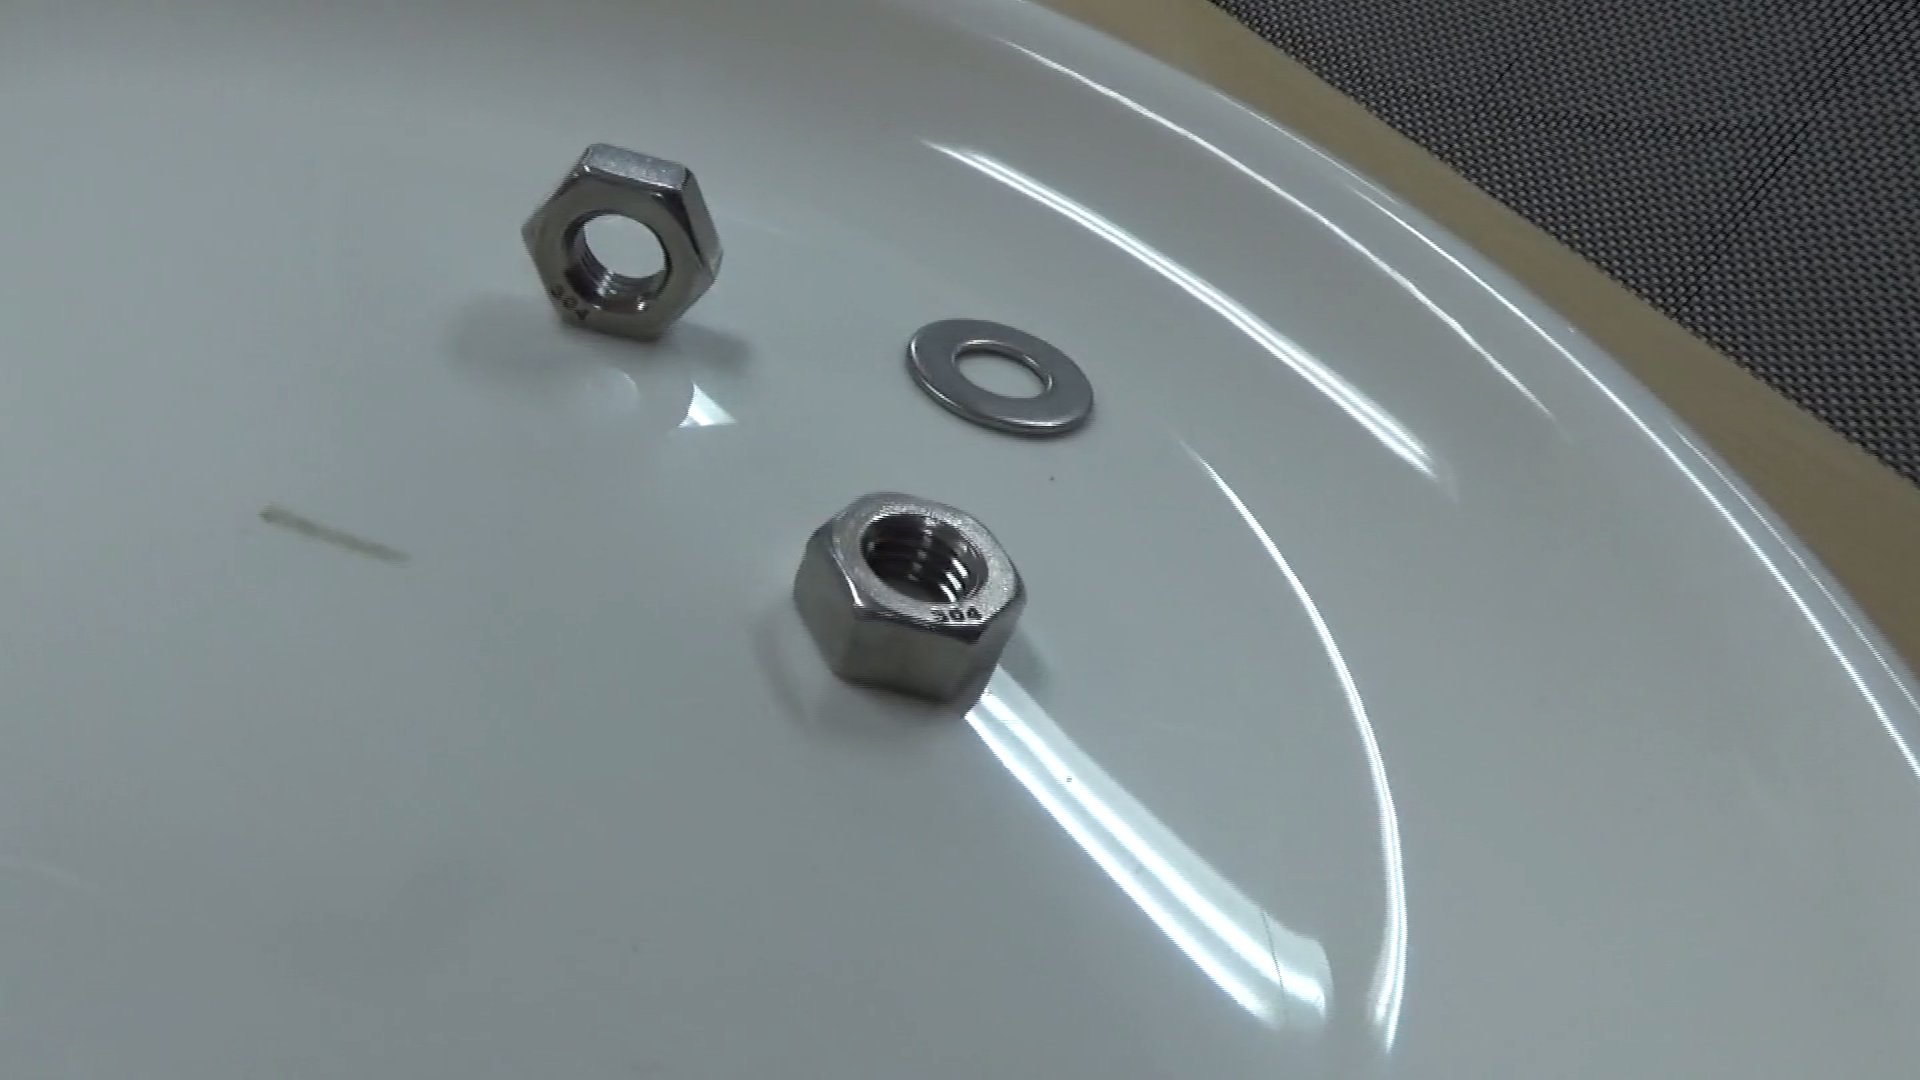nut: (789, 485, 1031, 713), (518, 138, 727, 348)
washer: (899, 313, 1096, 439)
